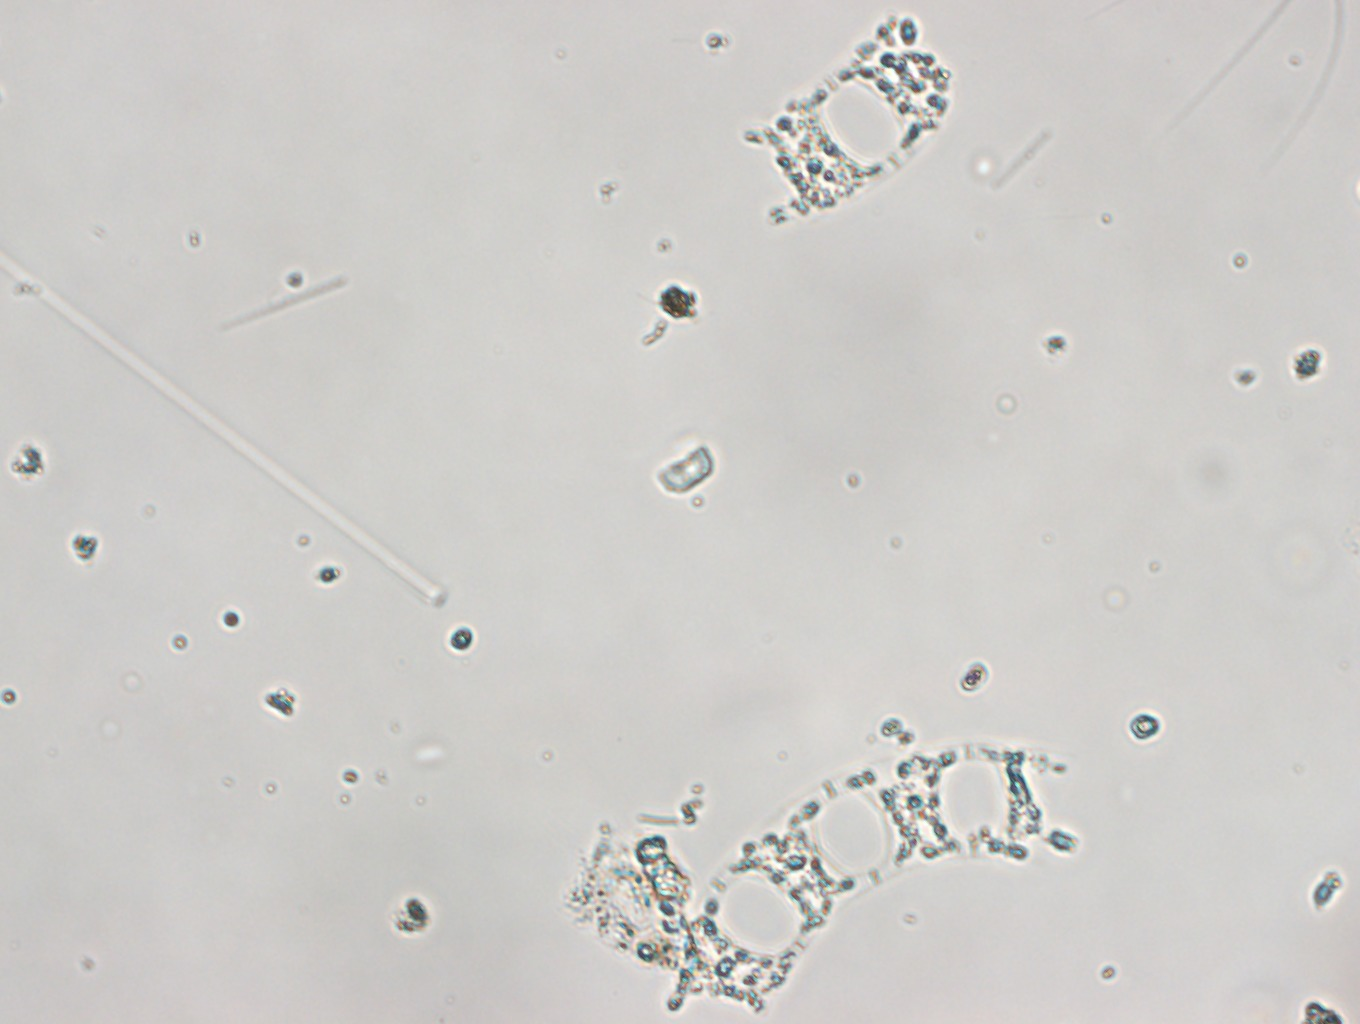eucampia: (667, 740, 1087, 1005), (740, 15, 960, 222)
